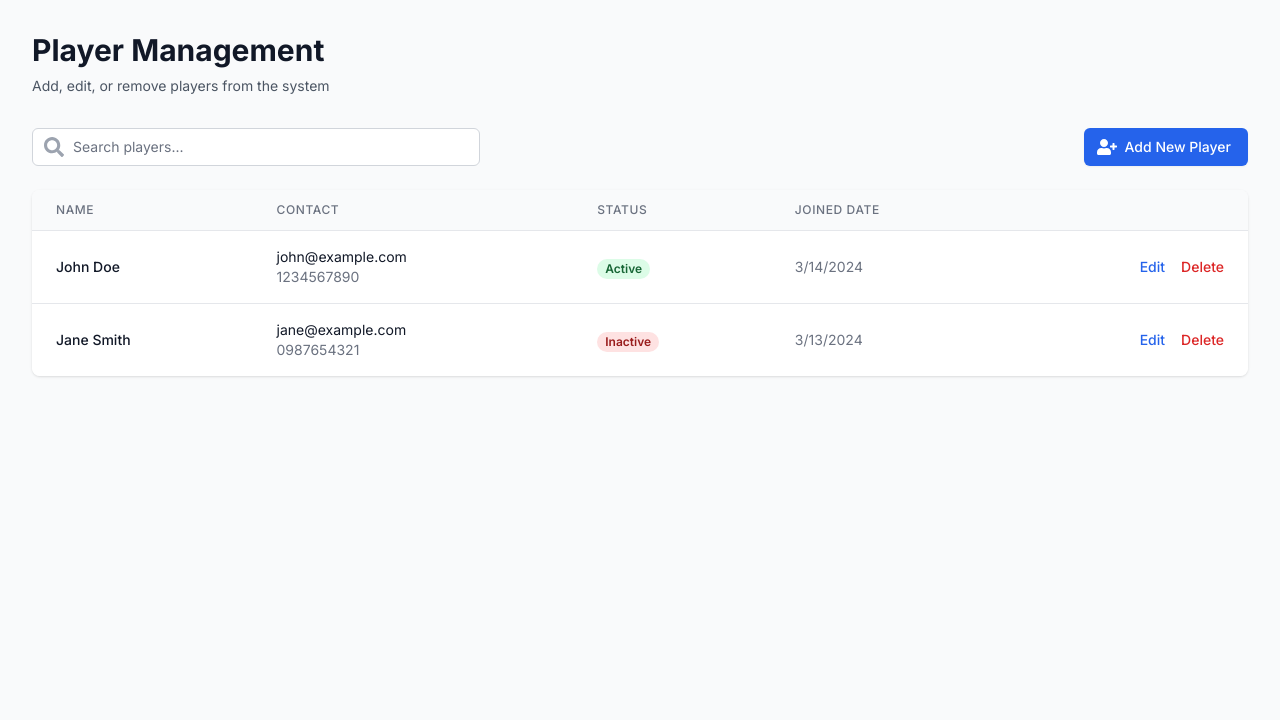
Test: AdminPage › opens add player modal when clicking add button
Click the button "Add New Player".
click(1166, 147)  # box [1084,128,1248,166]
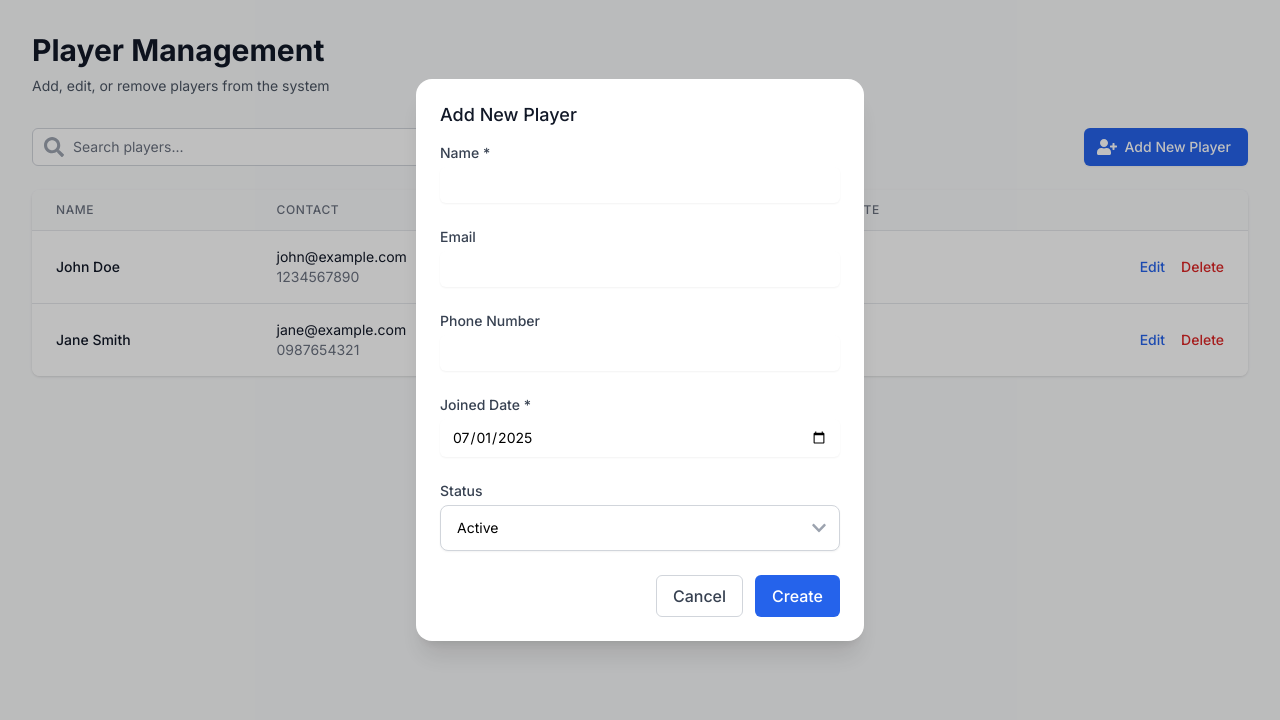
Result: the heading "Add New Player" is shown at [440,104,577,125]
